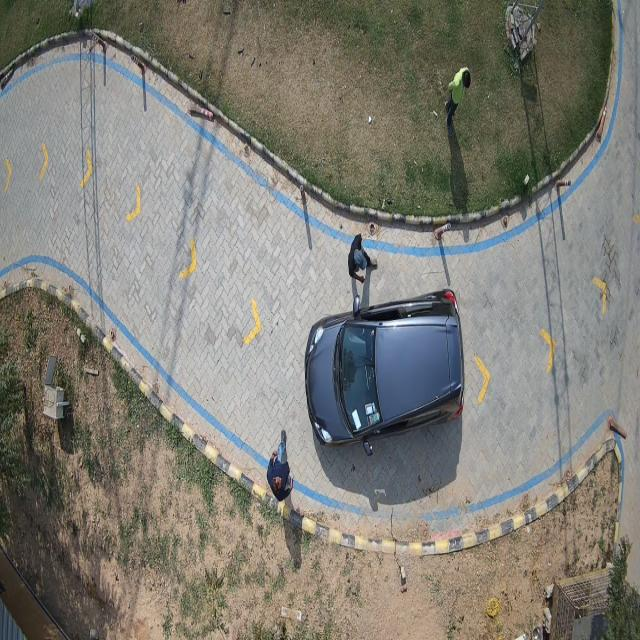car: (304, 289, 466, 448)
